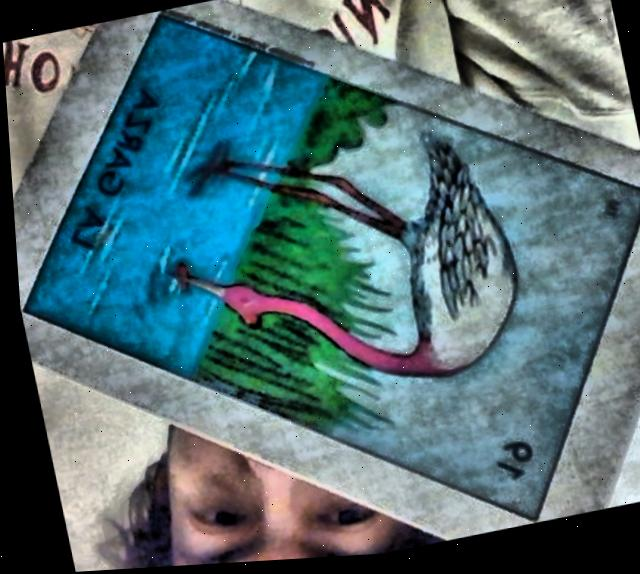El Garza: (22, 18, 640, 528)
